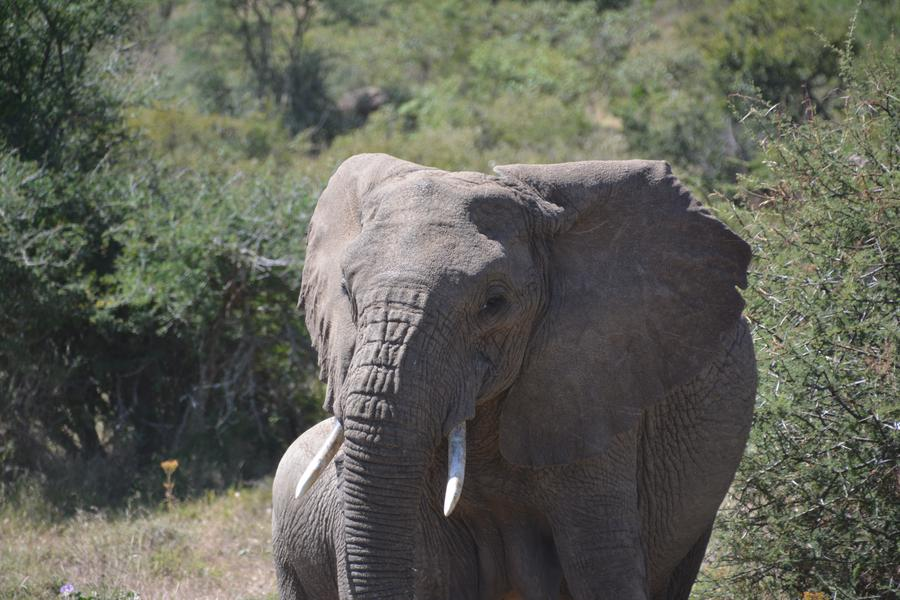elephant: (317, 151, 737, 593)
